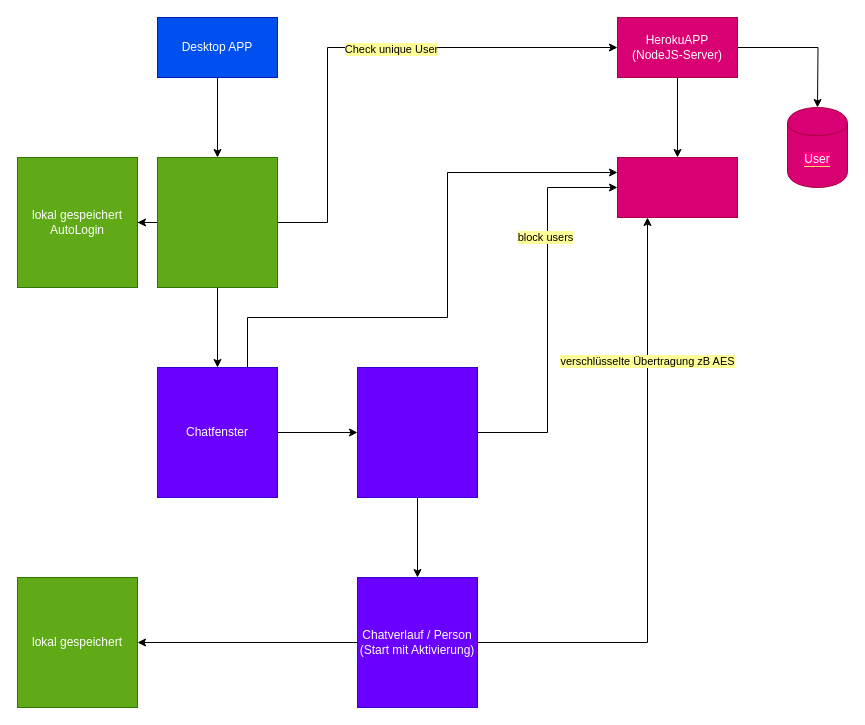
This 865x725 diagram has some shape labels left out. Here are the shapes that lost their labels. From the top down, the centre of each, then its label:
At point (677, 187): "SocketIO Connections".
At point (217, 222): "Konfiguration Username Bild Statement Server URL Password".
At point (417, 432): "Anzeige Personen (nur aktive)".
